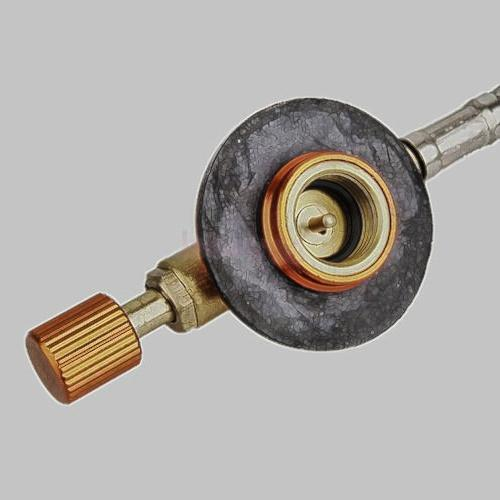toaster: (53, 97, 448, 391)
